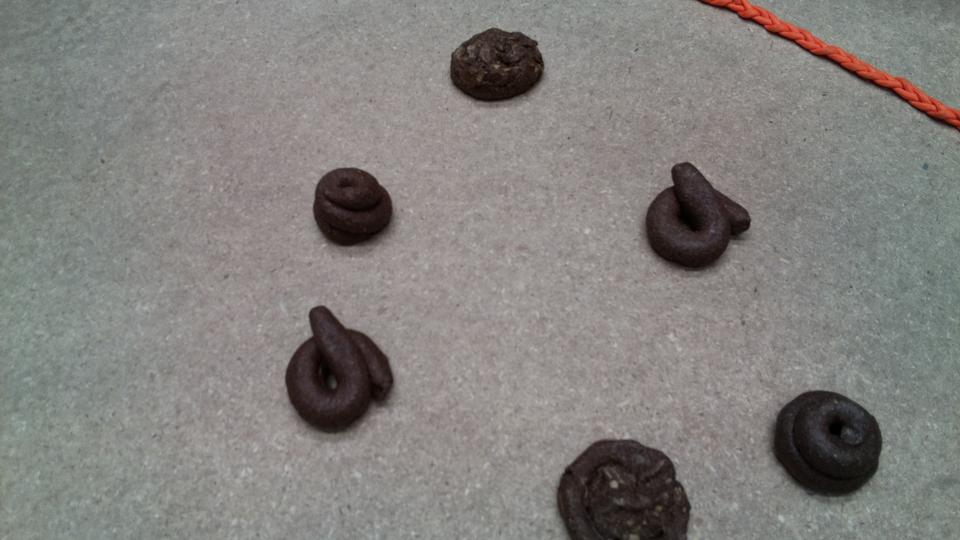poop: (283, 304, 398, 435), (554, 437, 697, 540), (771, 388, 885, 498), (643, 160, 753, 273), (448, 25, 546, 106), (310, 164, 396, 248)
rope: (726, 1, 960, 121)
